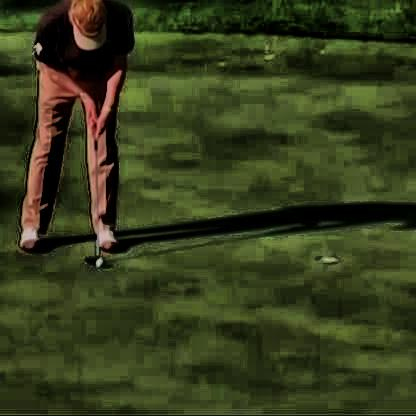golfball: (93, 253, 104, 266)
